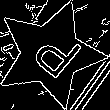P_SW: (19, 23, 82, 85)
